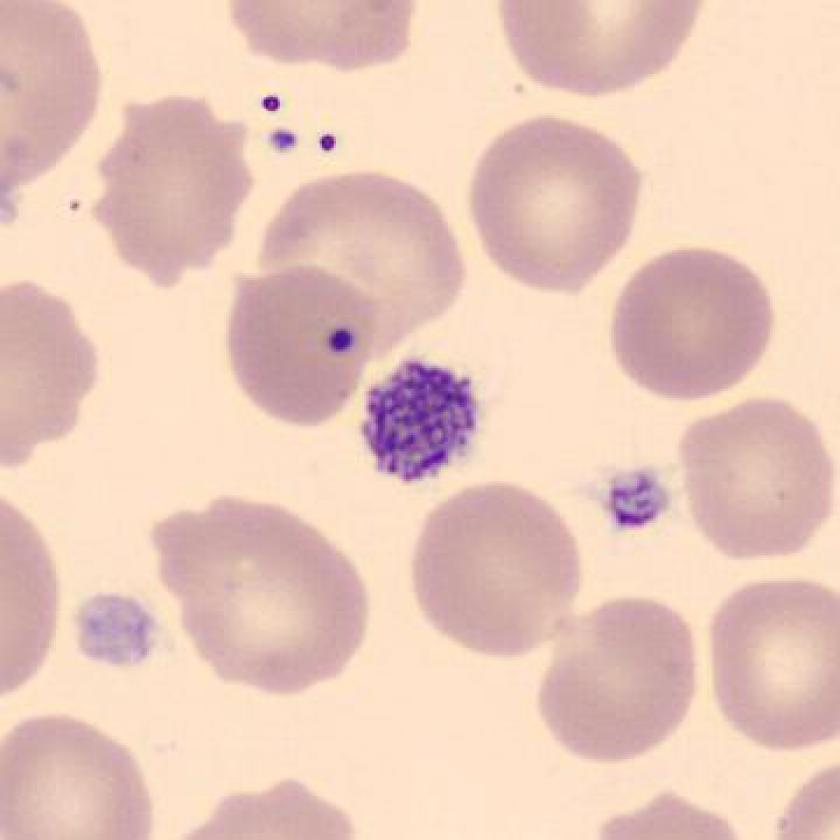platelets: (351, 351, 493, 492), (64, 584, 167, 684), (594, 455, 678, 550)
